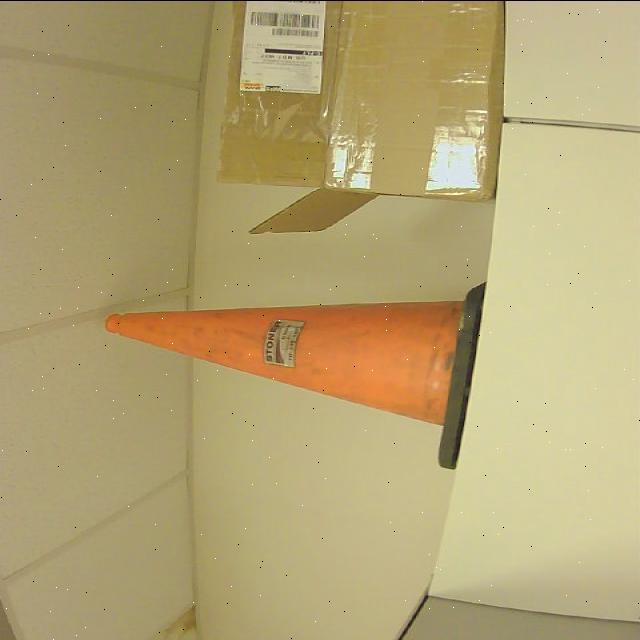traffic cone: (105, 283, 488, 470)
